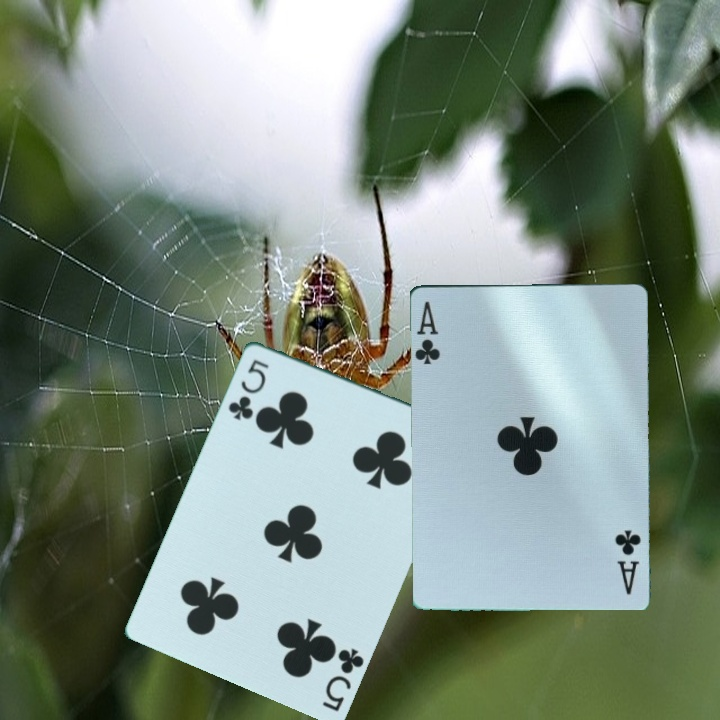5c: (318, 643, 367, 714), (224, 355, 272, 423)
Ac: (410, 297, 443, 367), (614, 525, 643, 598)
